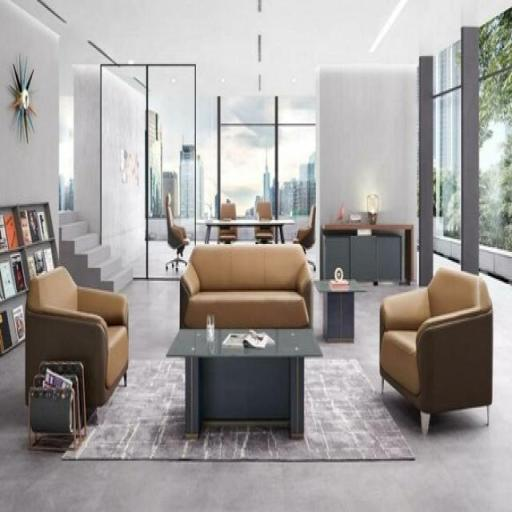sofa: (24, 218, 502, 484)
